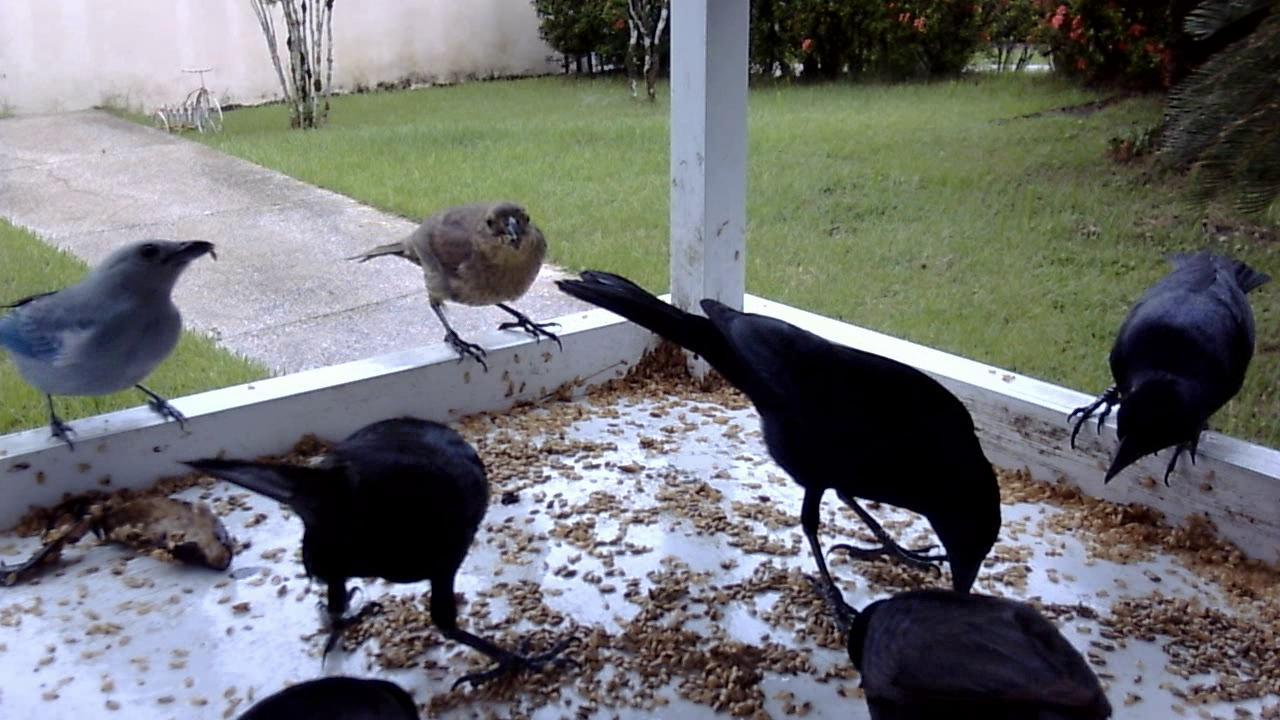chupim: (542, 270, 1008, 636), (165, 403, 565, 688), (1062, 244, 1272, 491), (342, 193, 584, 384), (814, 580, 1122, 720)
sanhaco_da_amazonia: (3, 230, 223, 460)
